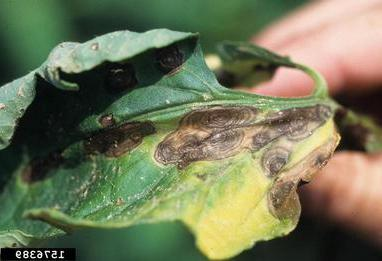Tomato Early blight leaf: (0, 29, 338, 246)
